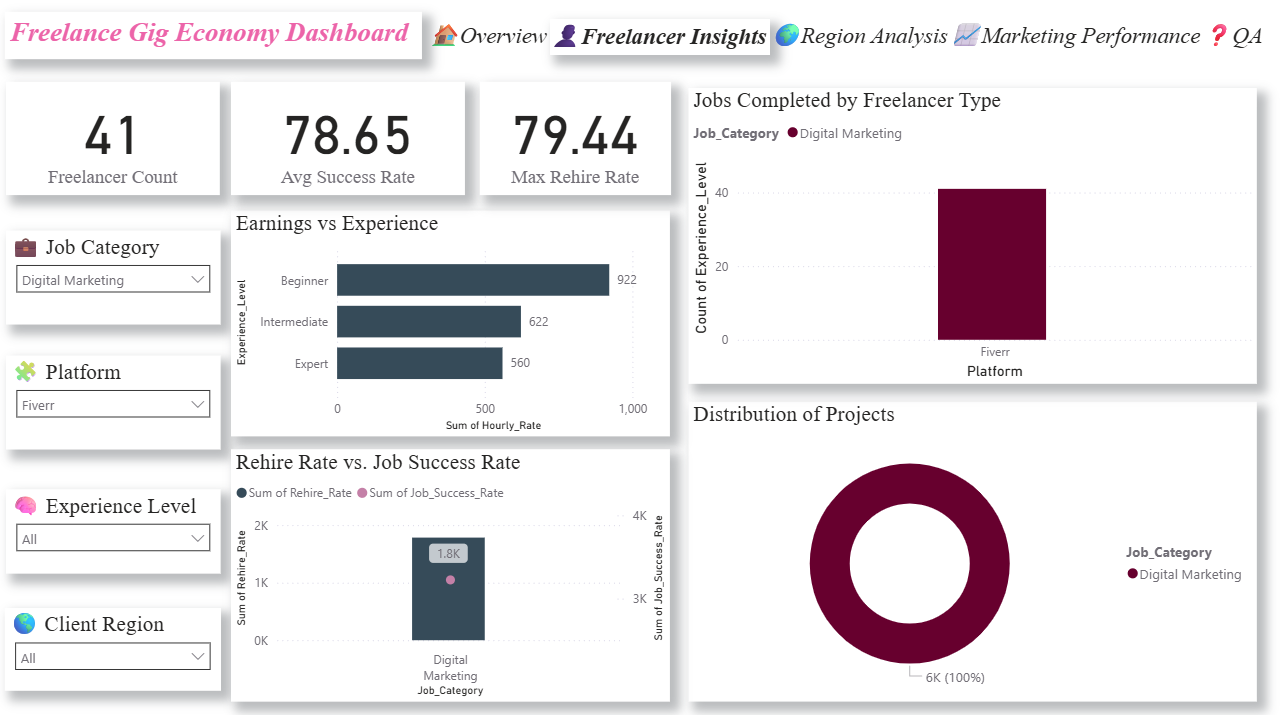

The page's visual inventory and layout, read from the dashboard file:
{"tool":"powerbi","page":{"name":"Freelancer Insights","canvas":[1280,720],"ordinal":1},"visuals":[{"type":"donutChart","title":"Distribution of Projects","fields":{"Category":["freelancer_earnings_bd.Job_Category"],"Y":["Sum(freelancer_earnings_bd.Job_Completed)"]},"box":[688.6,407.1,565.7,298.6],"z":0},{"type":"slicer","title":"🧠 Experience Level","fields":{"Values":["freelancer_earnings_bd.Experience_Level"]},"box":[10.1,493.4,213.5,83.7],"z":1000},{"type":"slicer","title":"💼 Job Category","fields":{"Values":["freelancer_earnings_bd.Job_Category"]},"box":[10.1,236.6,213.5,93.8],"z":2000},{"type":"slicer","title":"🌎 Client Region","fields":{"Values":["freelancer_earnings_bd.Client_Region"]},"box":[8.7,611.7,215,82.2],"z":3000},{"type":"slicer","title":"🧩 Platform","fields":{"Values":["freelancer_earnings_bd.Platform"]},"box":[10.1,360.7,213.5,93.8],"z":4000},{"type":"barChart","title":"Earnings vs Experience","fields":{"Y":["Sum(freelancer_earnings_bd.Hourly_Rate)"],"Category":["freelancer_earnings_bd.Experience_Level"]},"box":[233.7,216.4,437.2,225.1],"z":5000},{"type":"card","fields":{"Values":["freelancer_earnings_bd.Freelancer Count"]},"box":[10,88.6,212.9,112.9],"z":6000},{"type":"card","fields":{"Values":["freelancer_earnings_bd.Avg Success Rate"]},"box":[234.3,88.6,232.9,112.9],"z":7000},{"type":"card","fields":{"Values":["freelancer_earnings_bd.Max Rehire Rate"]},"box":[481.4,88.6,190,112.9],"z":8000},{"type":"columnChart","title":"Jobs Completed by Freelancer Type","fields":{"Category":["freelancer_earnings_bd.Platform"],"Series":["freelancer_earnings_bd.Job_Category"],"Y":["CountNonNull(freelancer_earnings_bd.Experience_Level)"]},"box":[688.6,94.3,565.7,294.3],"z":9000},{"type":"lineStackedColumnComboChart","title":"Rehire Rate vs. Job Success Rate","fields":{"Y":["Sum(freelancer_earnings_bd.Rehire_Rate)"],"Category":["freelancer_earnings_bd.Job_Category"],"Y2":["Sum(freelancer_earnings_bd.Job_Success_Rate)"]},"box":[233.7,454.5,437.2,251],"z":10000},{"type":"actionButton","title":"🏠Overview","box":[430.4,24.9,120.7,36.1],"z":11000},{"type":"actionButton","title":"👤Freelancer Insights","box":[551.1,26.1,218.9,34.8],"z":12000},{"type":"actionButton","title":"🌍Region Analysis","box":[770.4,24.5,178.9,36.1],"z":13000},{"type":"actionButton","title":"📈Marketing Performance","box":[949.3,24.5,249.6,34.6],"z":14000},{"type":"actionButton","title":"❓QA","box":[1199.2,24.9,65.9,34.8],"z":15000},{"type":"textbox","box":[8.7,18.7,415.5,47.3],"z":16000}]}

Visuals, with their boxes in screenshot pixels (x1, y1, x2, y2), scaled from the page's 1280x720 canvas onto the 1281x715 screenshot:
"Distribution of Projects" donutChart: (689, 404, 1255, 701)
"🧠 Experience Level" slicer: (10, 490, 224, 573)
"💼 Job Category" slicer: (10, 235, 224, 328)
"🌎 Client Region" slicer: (9, 607, 224, 689)
"🧩 Platform" slicer: (10, 358, 224, 451)
"Earnings vs Experience" barChart: (234, 215, 671, 438)
card - freelancer_earnings_bd.Freelancer Count: (10, 88, 223, 200)
card - freelancer_earnings_bd.Avg Success Rate: (234, 88, 468, 200)
card - freelancer_earnings_bd.Max Rehire Rate: (482, 88, 672, 200)
"Jobs Completed by Freelancer Type" columnChart: (689, 94, 1255, 386)
"Rehire Rate vs. Job Success Rate" lineStackedColumnComboChart: (234, 451, 671, 701)
"🏠Overview" actionButton: (431, 25, 552, 61)
"👤Freelancer Insights" actionButton: (552, 26, 771, 60)
"🌍Region Analysis" actionButton: (771, 24, 950, 60)
"📈Marketing Performance" actionButton: (950, 24, 1200, 59)
"❓QA" actionButton: (1200, 25, 1266, 59)
textbox: (9, 19, 425, 66)
